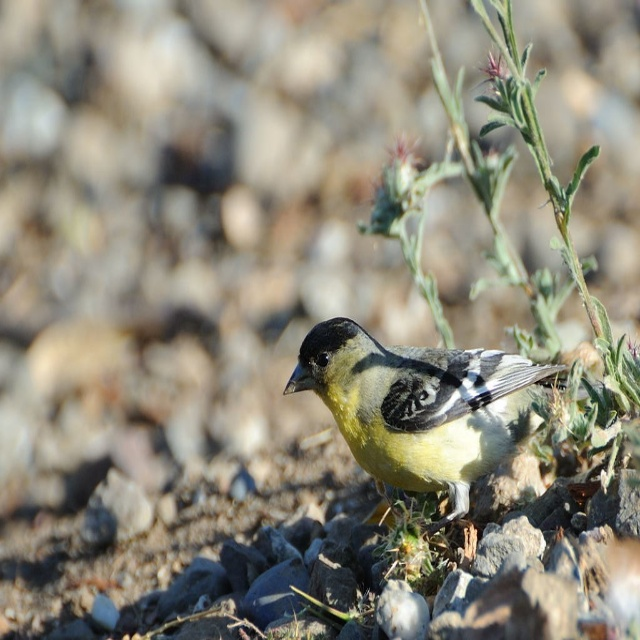Sparrow: (283, 317, 567, 533)
